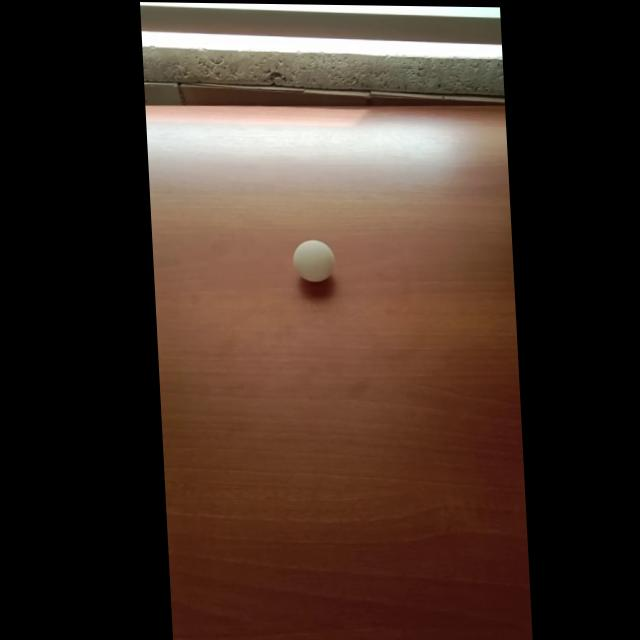white ball: (291, 238, 335, 283)
